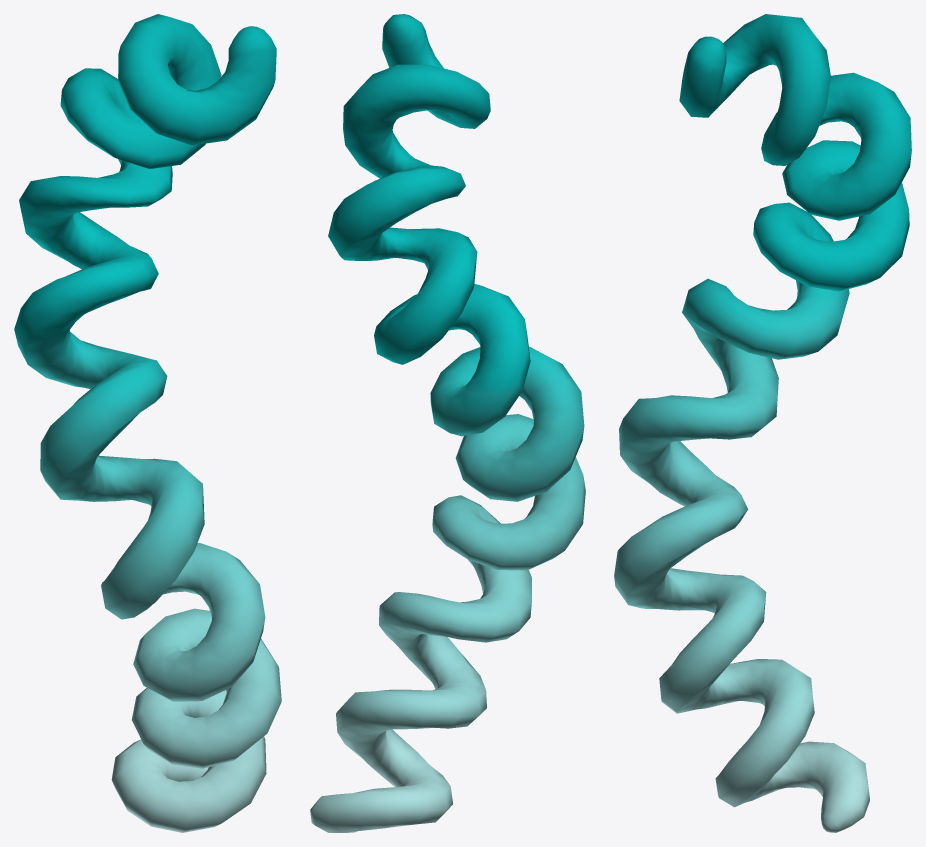
Rendered from capsule_contents_001.glb.
3 views of the same model, side by side, from view 1: azimuth 30°, elevation 25°; view 2: azimuth 150°, elevation 25°; view 3: azimuth 270°, elevation 25° (orthographic). The views are drawn at different scales.
Visible parts, largest first — view 1: Сapsule_contents_001; view 2: Сapsule_contents_001; view 3: Сapsule_contents_001.
Part boxes in pixels (bbox=[...]): Сapsule_contents_001: bbox=[14, 14, 281, 832]; Сapsule_contents_001: bbox=[310, 14, 585, 832]; Сapsule_contents_001: bbox=[614, 14, 911, 832].
Bounding box in the file's own units: 0.3884 × 1.29 × 0.4417.
Materials: 1 (1 with a texture image).
